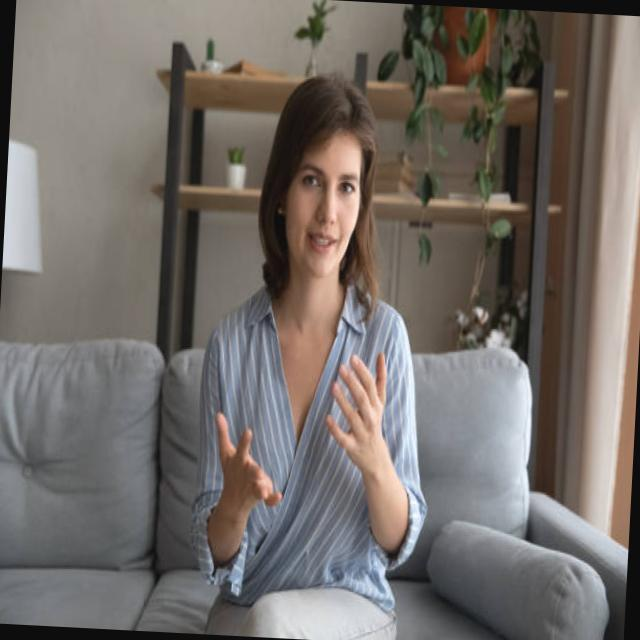Hand: (319, 342, 392, 478), (208, 406, 291, 518)
